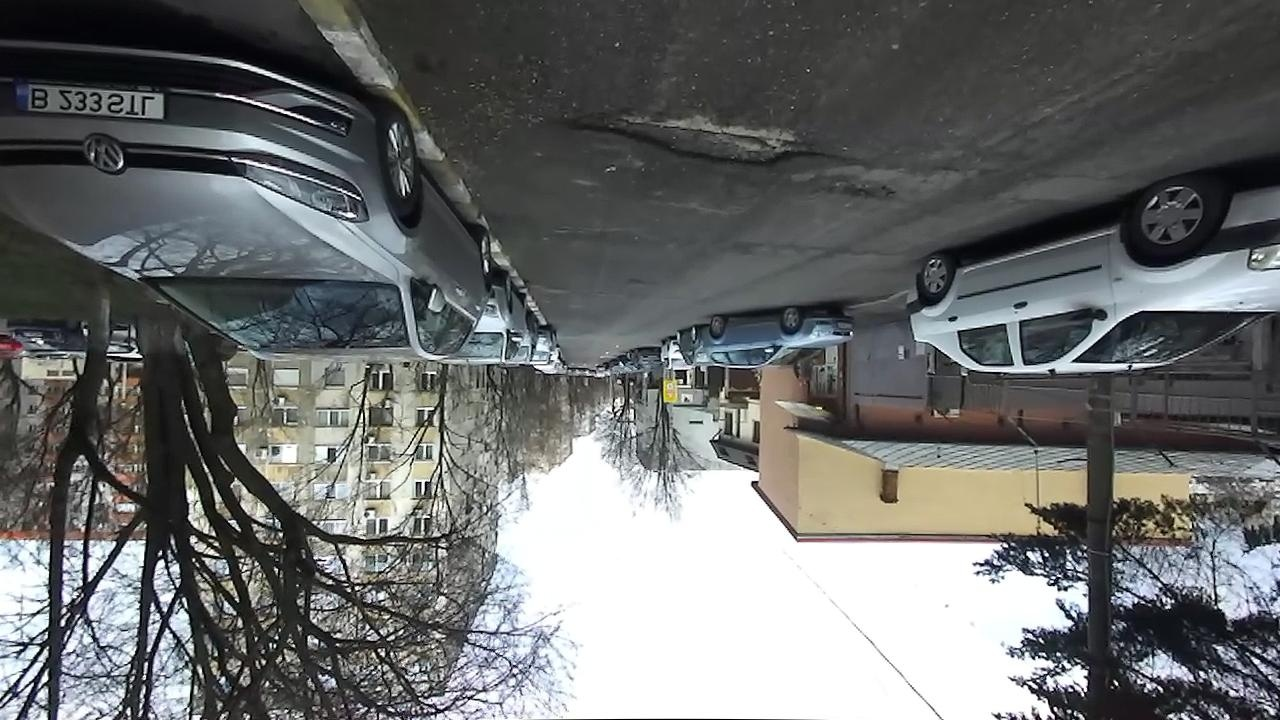pothole: (545, 104, 864, 174), (805, 177, 905, 205)
